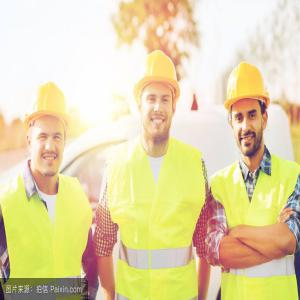yellow: (25, 81, 71, 178), (225, 61, 270, 159), (136, 52, 179, 142)
